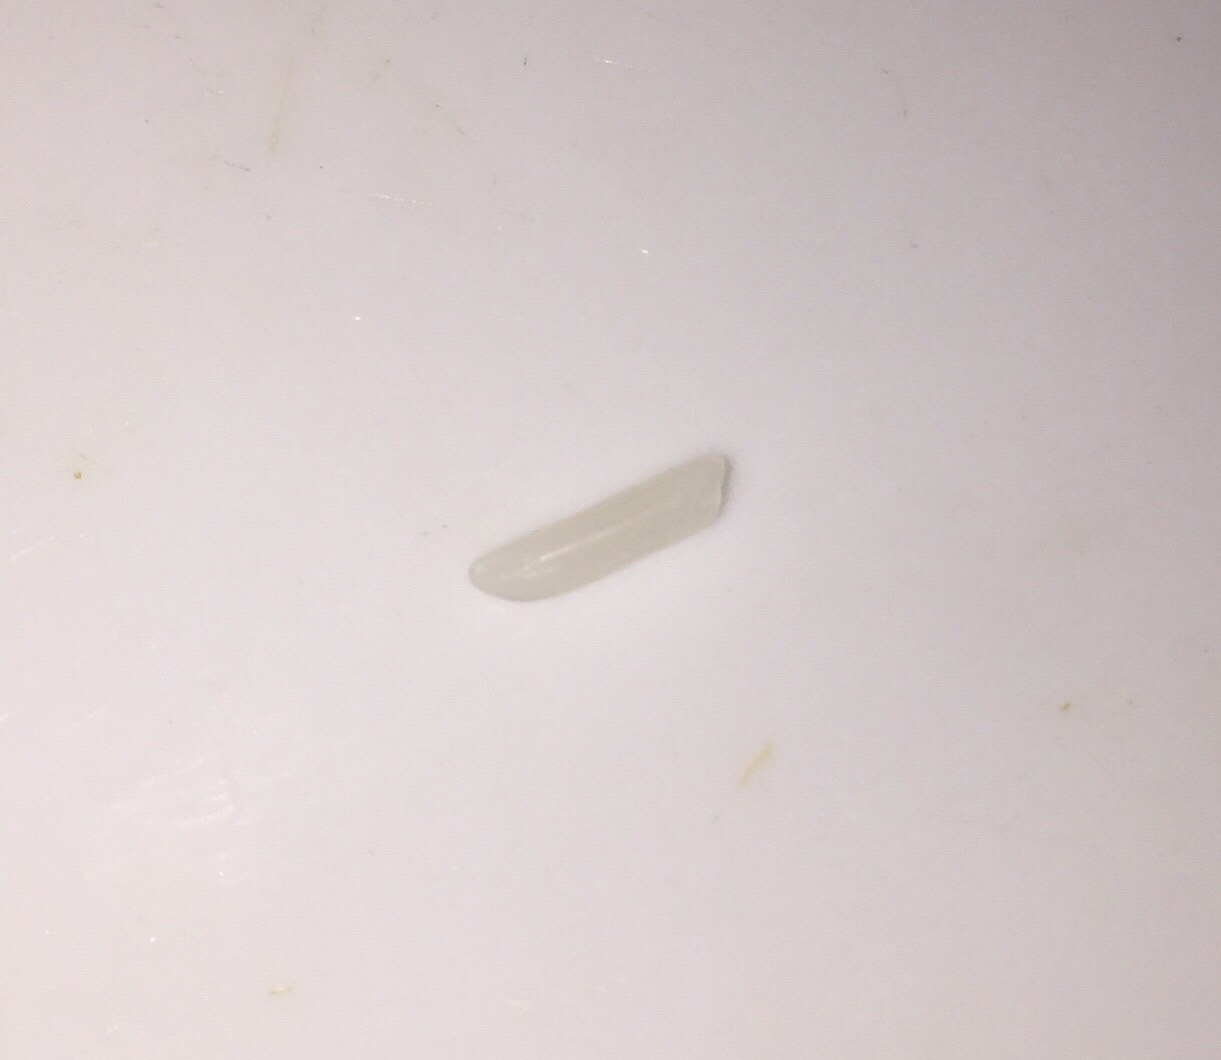Gao Ngoc Troi: (456, 450, 754, 615)
